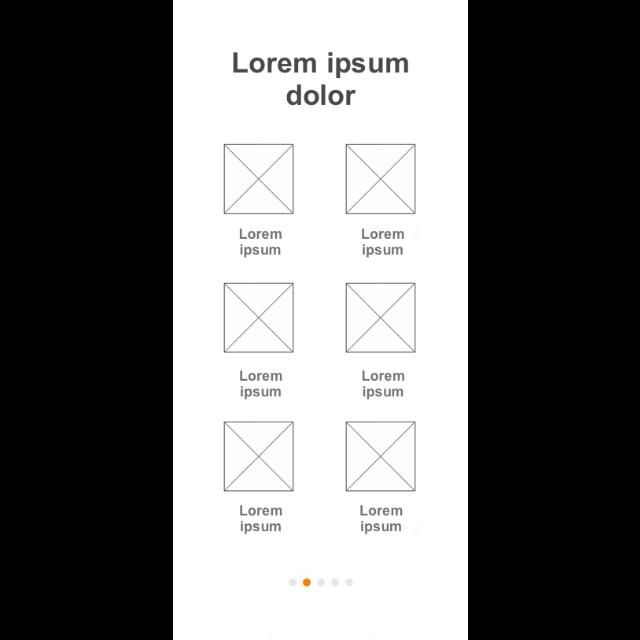image: (222, 282, 294, 354), (344, 282, 416, 354), (222, 145, 294, 215), (344, 145, 416, 215), (344, 422, 416, 492), (224, 421, 294, 491)
pageindicator: (288, 578, 354, 586)
text: (232, 52, 408, 108), (238, 370, 282, 400), (362, 370, 404, 400), (360, 505, 402, 535), (238, 230, 282, 258), (361, 230, 404, 258), (240, 506, 282, 534)
